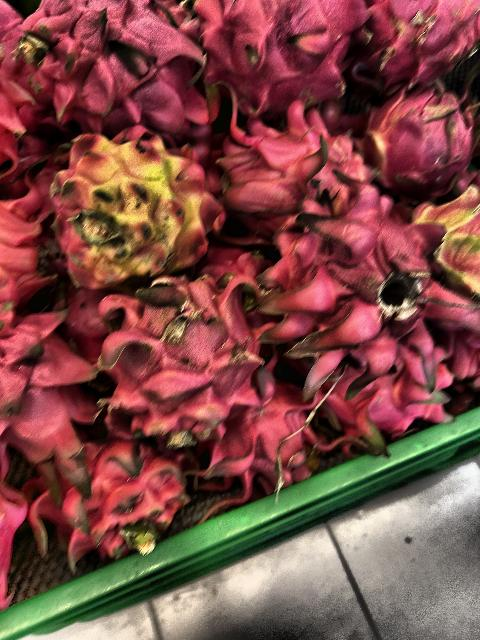buah-naga-belum-matang: (36, 130, 220, 268), (396, 190, 480, 324)
buah-naga-matang: (248, 179, 434, 359), (87, 278, 268, 432), (19, 0, 207, 138), (0, 281, 100, 487), (184, 0, 366, 111), (25, 444, 185, 544), (217, 108, 365, 210), (360, 74, 480, 196), (300, 344, 454, 434), (196, 388, 324, 488), (348, 0, 480, 90)
